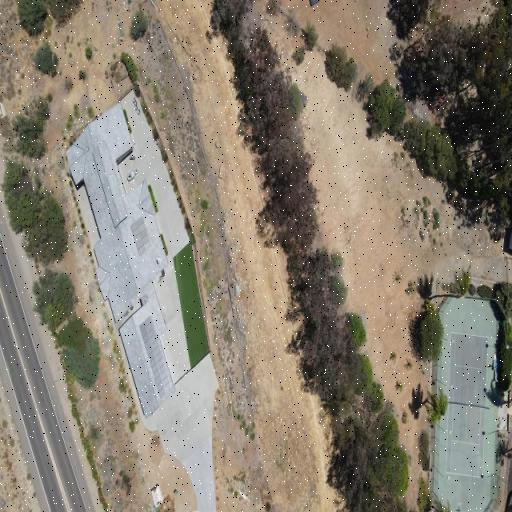solar-panel: (139, 315, 172, 399), (130, 216, 151, 255), (309, 0, 320, 6)
